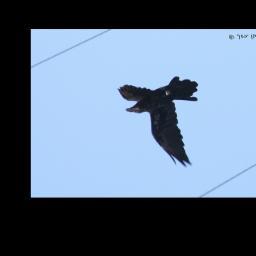Crow: (117, 77, 199, 168)
